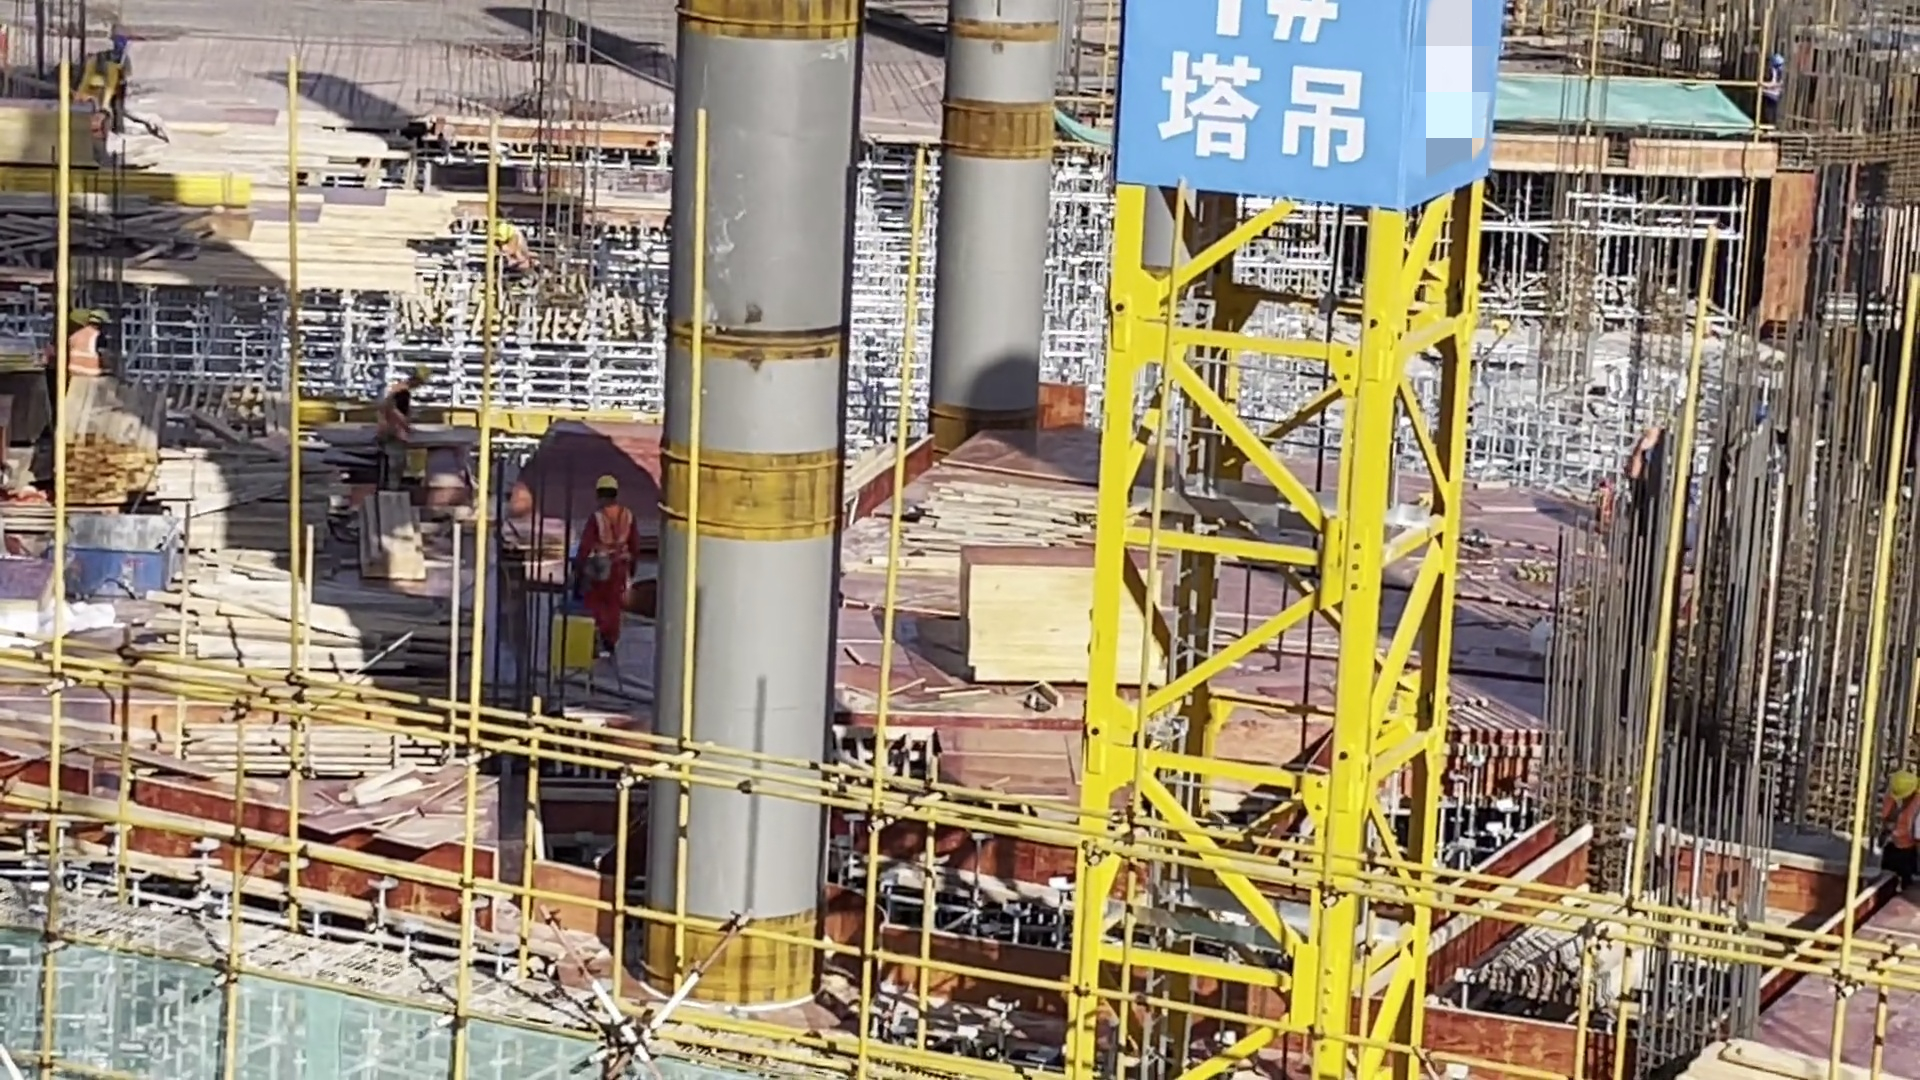helmet: (1877, 763, 1920, 805), (590, 473, 625, 505), (403, 359, 431, 387), (493, 215, 515, 246), (86, 304, 113, 330), (106, 31, 127, 53), (1770, 53, 1787, 69)
person: (580, 472, 640, 668), (1856, 743, 1920, 903), (376, 354, 427, 518), (101, 15, 140, 134), (66, 305, 112, 399), (487, 215, 534, 299), (1755, 51, 1797, 133)
vest: (591, 500, 635, 570), (376, 379, 413, 452), (1875, 797, 1920, 854), (72, 325, 104, 381)
